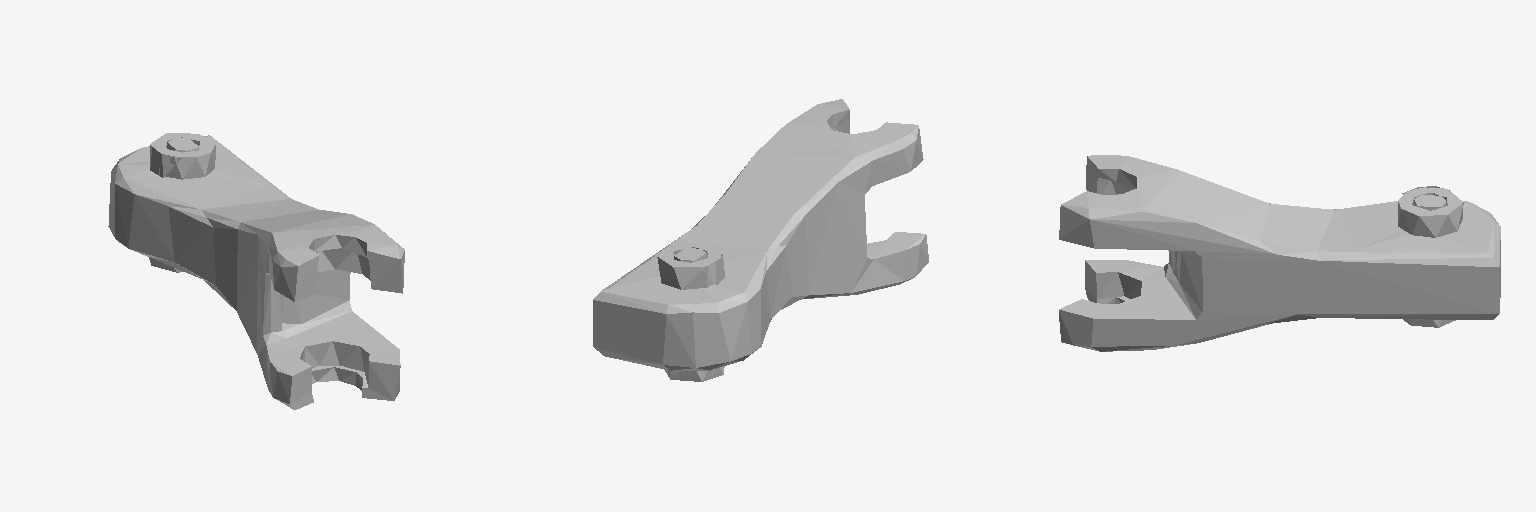
Rendered from right_visual_index_pp_mesh_mesh.obj.
The picture shows the model from 3 angles: view 1: azimuth 30°, elevation 25°; view 2: azimuth 150°, elevation 25°; view 3: azimuth 270°, elevation 25°; orthographic projection.
Size of the model in its own units: 0.0179 by 0.0193 by 0.0524.